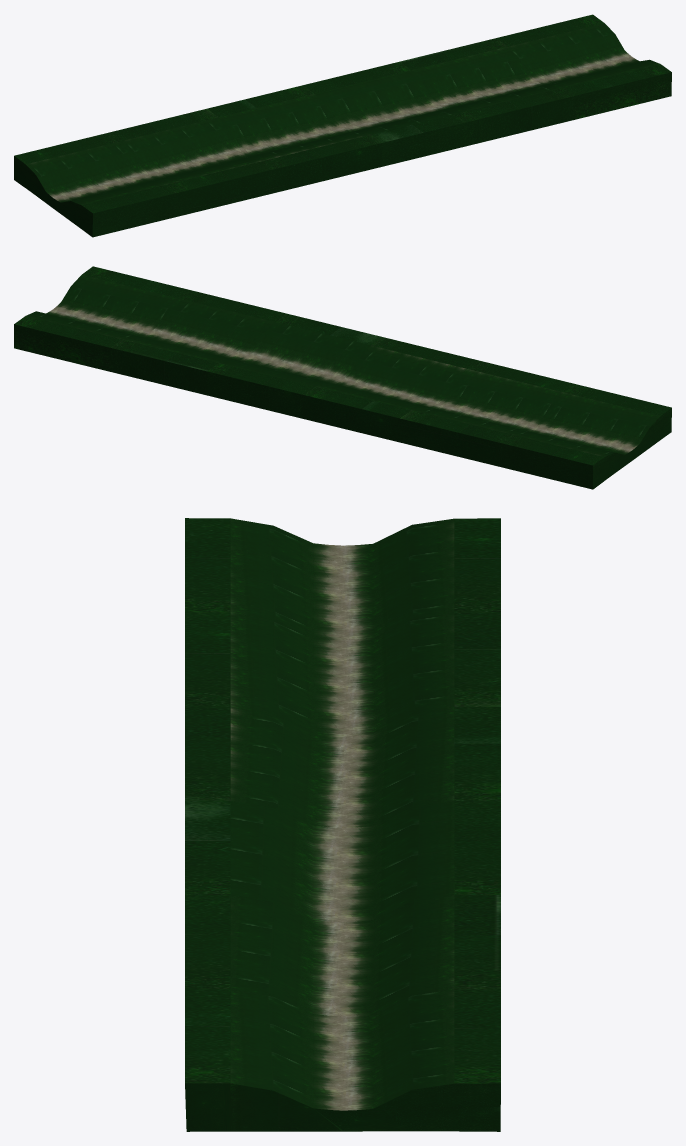
The model's file is ForestFloor_Original Prefab.fbx.
3 views of the same model, one above another, from view 1: azimuth 30°, elevation 25°; view 2: azimuth 150°, elevation 25°; view 3: azimuth 270°, elevation 25° (orthographic). The views are drawn at different scales.
Visible parts, largest first — view 1: Box001, Box003, Box006, Box005, Box002, Box004; view 2: Box001, Box005, Box006, Box002, Box004, Box003; view 3: Box006, Box001, Box002, Box004, Box005, Box003.
Boxes of the visible parts, x1,y1,x2,y2 form: Box001: [14, 132, 189, 237]; Box003: [207, 85, 382, 190]; Box006: [496, 14, 671, 119]; Box005: [400, 38, 575, 142]; Box002: [111, 108, 285, 213]; Box004: [303, 61, 478, 166]; Box001: [496, 384, 671, 489]; Box005: [110, 290, 285, 395]; Box006: [14, 266, 188, 371]; Box002: [399, 360, 574, 465]; Box004: [207, 313, 381, 418]; Box003: [303, 337, 478, 442]; Box006: [185, 989, 500, 1131]; Box001: [185, 518, 500, 639]; Box002: [185, 612, 500, 733]; Box004: [185, 800, 500, 922]; Box005: [185, 895, 500, 1016]; Box003: [185, 706, 500, 828].
Bounding box in the file's own units: 1311 × 52.6 × 310.
Materials: 2 (2 with a texture image).
